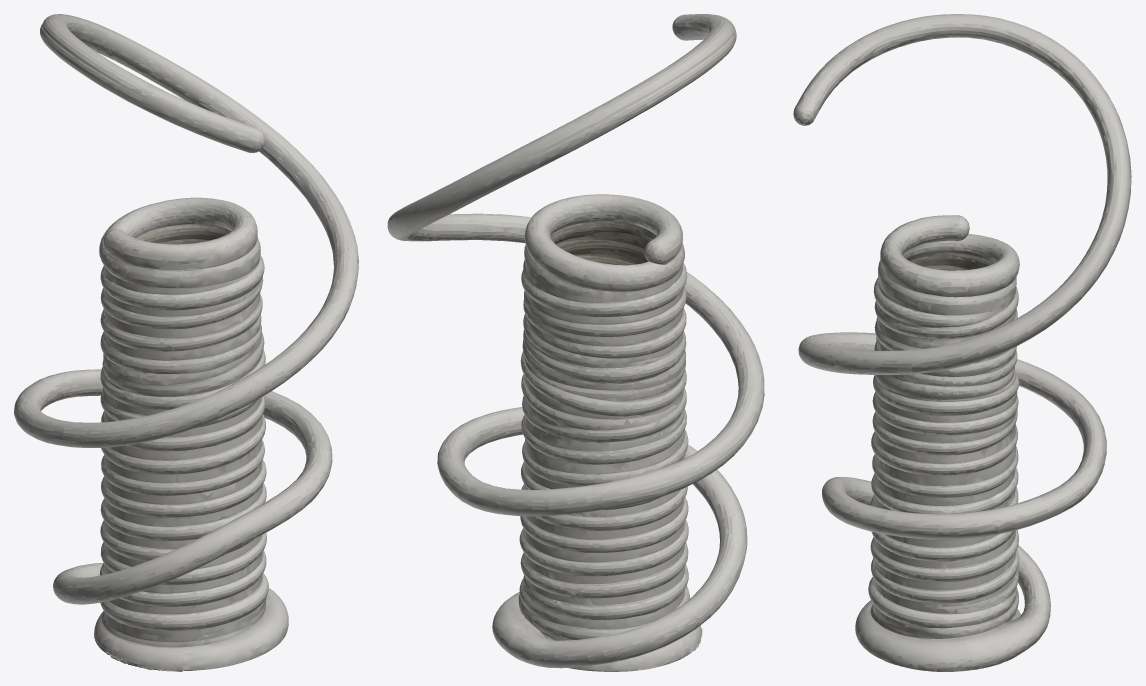
The model's file is 03_5_gj_vase3-opt-v10.glb.
3 renders of one model, left to right at view 1: azimuth 30°, elevation 25°; view 2: azimuth 150°, elevation 25°; view 3: azimuth 270°, elevation 25°, orthographic. The views are drawn at different scales.
Visible parts, largest first — view 1: tripo_node_57cfec73-de94-4360-878a-0543cf592ae6.002; view 2: tripo_node_57cfec73-de94-4360-878a-0543cf592ae6.002; view 3: tripo_node_57cfec73-de94-4360-878a-0543cf592ae6.002.
Boxes of the visible parts, box(x1,y1,x2,y2) form: tripo_node_57cfec73-de94-4360-878a-0543cf592ae6.002: box(14, 14, 358, 671); tripo_node_57cfec73-de94-4360-878a-0543cf592ae6.002: box(387, 14, 764, 671); tripo_node_57cfec73-de94-4360-878a-0543cf592ae6.002: box(793, 14, 1131, 671).
Size of the model in its own units: 0.2 by 0.3721 by 0.2.
1 material, 1 textured.
